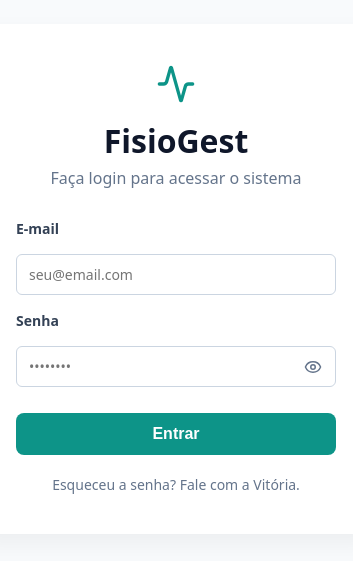
Scenario: <Login /> › servidor fora do ar ou pausado NÃO diz que a senha está errada
Type "fisio@clinica.pt" into the field with placeholder "seu@email.com".
click(176, 274); type("fisio@clinica.pt")  # box [16, 254, 336, 295]
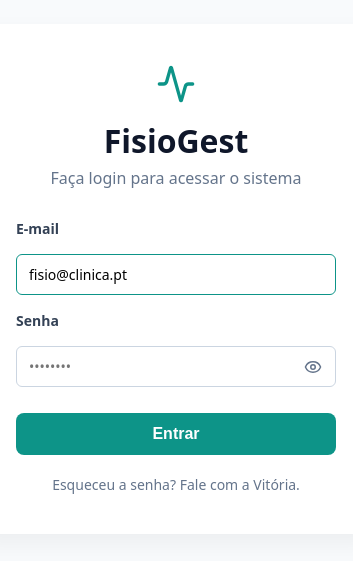
Type "segredo123" into the password field with placeholder "••••••••".
click(176, 366); type("segredo123")  # box [16, 346, 336, 387]
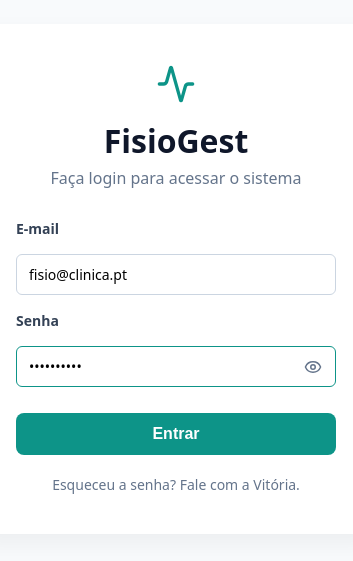
Click the button "Entrar".
click(176, 434)  # box [16, 413, 336, 455]
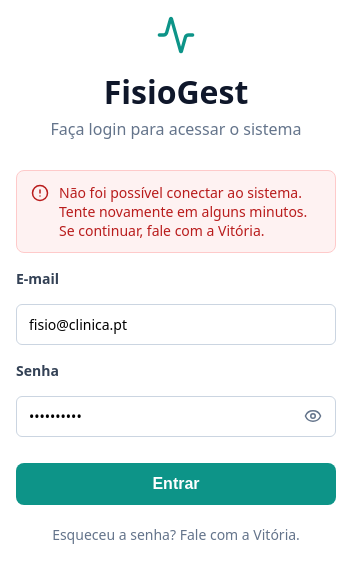
Expected: the message does not show "incorretos", [16, 170, 336, 252]
Expected: the message shows "Não foi possível conectar", [59, 182, 307, 240]
